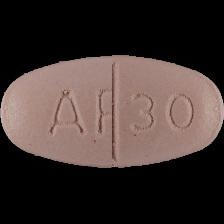53808-0483: (0, 0, 224, 224)
